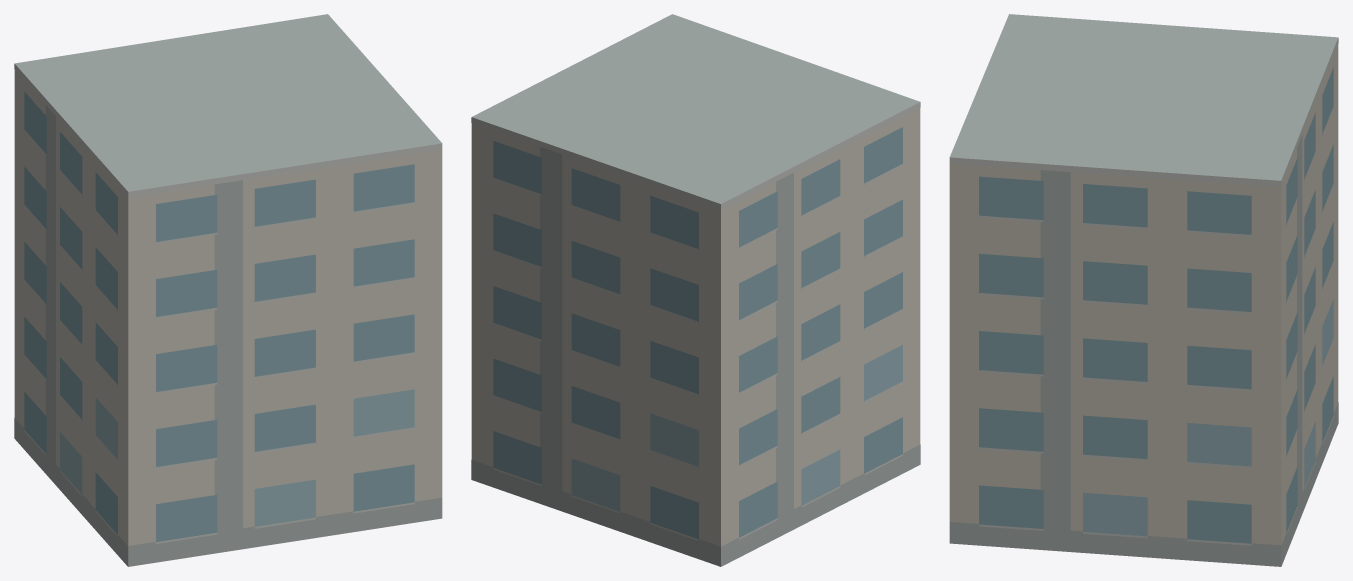
File: survey-upis-32509106.glb
3 renders of one model, left to right at view 1: azimuth 30°, elevation 25°; view 2: azimuth 150°, elevation 25°; view 3: azimuth 270°, elevation 25°, orthographic. The views are drawn at different scales.
Visible parts, largest first — view 1: survey-upis-32509106.tmp; view 2: survey-upis-32509106.tmp; view 3: survey-upis-32509106.tmp.
Part boxes in pixels (box(x1,y1,x2,y2)): survey-upis-32509106.tmp: box(14, 14, 442, 566); survey-upis-32509106.tmp: box(471, 14, 920, 566); survey-upis-32509106.tmp: box(949, 14, 1338, 566).
Bounding box in the file's own units: 14.14 × 15.25 × 13.93.
